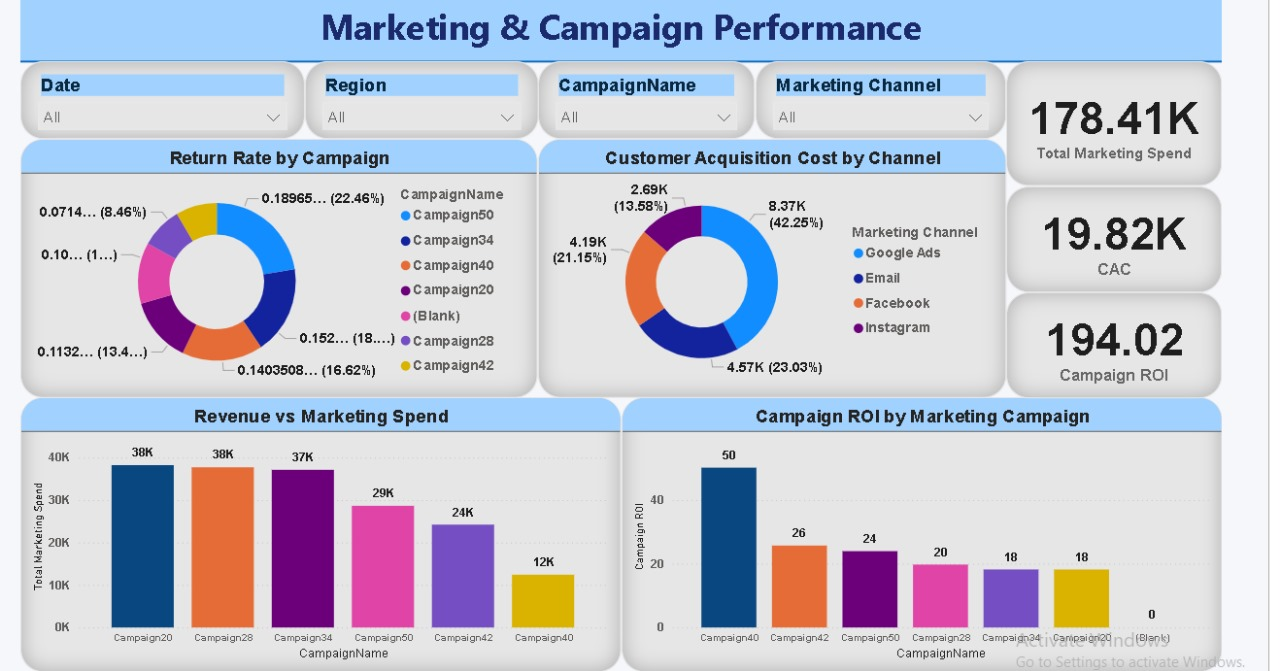

The page's visual inventory and layout, read from the dashboard file:
{"tool":"powerbi","page":{"name":"Marketing Performance","canvas":[1280,720],"ordinal":6},"visuals":[{"type":"textbox","box":[0,0,1279.8,69.1],"z":0},{"type":"shape","box":[0,61.7,1279.8,13.2],"z":1000},{"type":"columnChart","title":"Campaign ROI by Marketing Campaign","fields":{"Category":["DimMarketing.CampaignName"],"Y":["_Measures.Campaign ROI"]},"box":[640,426.7,640,293.3],"z":2000},{"type":"donutChart","title":"Customer Acquisition Cost by Channel","fields":{"Category":["DimMarketing.Marketing Channel"],"Y":["_Measures.CAC"]},"box":[551.4,151.4,498.6,275.7],"z":3000},{"type":"clusteredColumnChart","title":"Revenue vs Marketing Spend","fields":{"Category":["DimMarketing.CampaignName"],"Y":["_Measures.Total Marketing Spend"]},"box":[0,426.7,640,293.3],"z":4000},{"type":"donutChart","title":"Return Rate by Campaign","fields":{"Category":["DimMarketing.CampaignName"],"Y":["_Measures.Return Rate %"]},"box":[0,151.4,551.4,275.7],"z":5000},{"type":"card","fields":{"Values":["_Measures.CAC"]},"box":[1050,201.4,230,112.9],"z":6000},{"type":"card","fields":{"Values":["_Measures.Total Marketing Spend"]},"box":[1050,68.6,230,132.9],"z":7000},{"type":"card","fields":{"Values":["_Measures.Campaign ROI"]},"box":[1050,314.3,230,112.9],"z":8000},{"type":"slicer","fields":{"Values":["Calendar.Date"]},"box":[0,68.6,302.9,82.9],"z":9000},{"type":"slicer","fields":{"Values":["DimMarketing.CampaignName"]},"box":[551.4,68.6,231.4,82.9],"z":10000},{"type":"slicer","fields":{"Values":["DimMarketing.Marketing Channel"]},"box":[782.9,68.6,267.1,82.9],"z":11000},{"type":"slicer","fields":{"Values":["DimWarehouse.Region"]},"box":[302.9,68.6,248.6,82.9],"z":12000}]}

Visuals, with their boxes on the page's 1280x720 design canvas (x1, y1, x2, y2). These are canvas units, not pixel positions in the 1280x671 screenshot, which may show the page scaled, cropped or inside an application window:
textbox: <box>0,0,1280,69</box>
shape: <box>0,62,1280,75</box>
"Campaign ROI by Marketing Campaign" columnChart: <box>640,427,1280,720</box>
"Customer Acquisition Cost by Channel" donutChart: <box>551,151,1050,427</box>
"Revenue vs Marketing Spend" clusteredColumnChart: <box>0,427,640,720</box>
"Return Rate by Campaign" donutChart: <box>0,151,551,427</box>
card - _Measures.CAC: <box>1050,201,1280,314</box>
card - _Measures.Total Marketing Spend: <box>1050,69,1280,202</box>
card - _Measures.Campaign ROI: <box>1050,314,1280,427</box>
slicer - Calendar.Date: <box>0,69,303,152</box>
slicer - DimMarketing.CampaignName: <box>551,69,783,152</box>
slicer - DimMarketing.Marketing Channel: <box>783,69,1050,152</box>
slicer - DimWarehouse.Region: <box>303,69,552,152</box>
